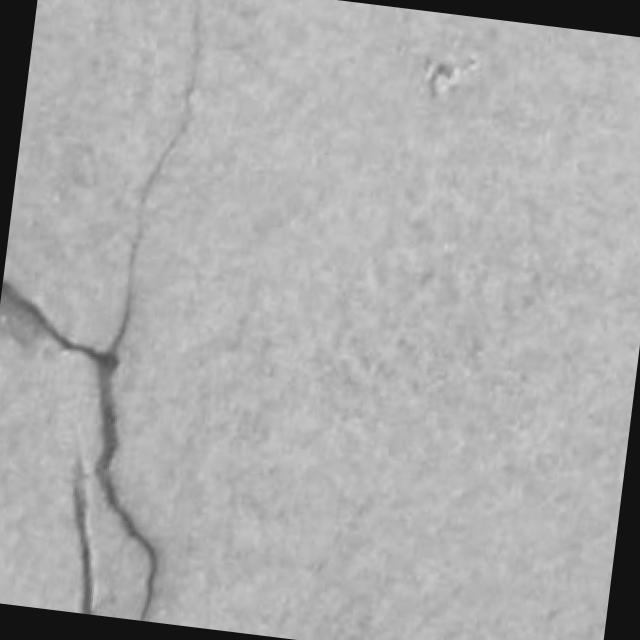crack: (0, 0, 202, 620), (0, 281, 160, 620), (110, 0, 203, 354), (95, 364, 160, 620), (73, 461, 94, 614)
